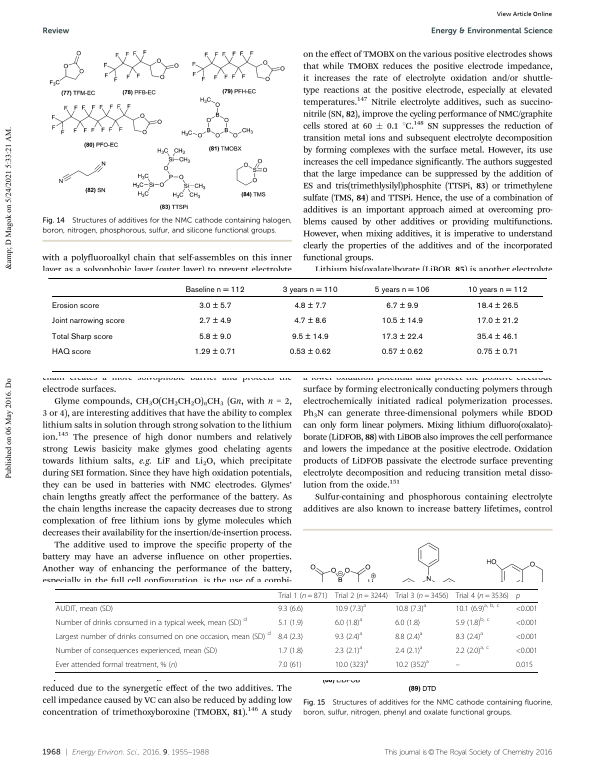borderless: (47, 276, 543, 371), (54, 587, 538, 672)
cell: (55, 630, 272, 642), (55, 616, 248, 628), (55, 646, 218, 656), (55, 660, 178, 670), (50, 317, 125, 327), (50, 332, 113, 342), (466, 285, 528, 295), (184, 285, 245, 295), (55, 604, 114, 614), (281, 285, 338, 295), (373, 285, 430, 295), (455, 602, 500, 614), (334, 591, 389, 600), (394, 591, 449, 600), (455, 591, 510, 600), (50, 301, 99, 311), (277, 591, 328, 600), (475, 301, 519, 311), (475, 317, 519, 327), (475, 332, 519, 342), (475, 348, 519, 358), (394, 658, 430, 670), (380, 317, 423, 327), (380, 332, 423, 342), (193, 348, 236, 358), (288, 348, 331, 358), (380, 348, 423, 358), (455, 616, 490, 628), (455, 644, 490, 656), (334, 658, 369, 670), (50, 348, 91, 358), (334, 602, 367, 614), (394, 602, 427, 614), (290, 332, 329, 342), (334, 616, 363, 628), (334, 630, 363, 642), (394, 630, 423, 642), (455, 630, 484, 642), (334, 644, 363, 656), (394, 644, 423, 656), (198, 301, 232, 311), (293, 301, 327, 311), (385, 301, 419, 311), (198, 317, 232, 327), (293, 317, 327, 327), (198, 332, 232, 342), (277, 604, 304, 614), (277, 618, 304, 628), (394, 618, 421, 628), (277, 632, 304, 642), (277, 646, 304, 656), (277, 660, 302, 670), (515, 604, 538, 614), (515, 618, 538, 628), (515, 632, 538, 642), (515, 646, 538, 656), (515, 660, 534, 670), (515, 593, 521, 600), (455, 664, 461, 668)
